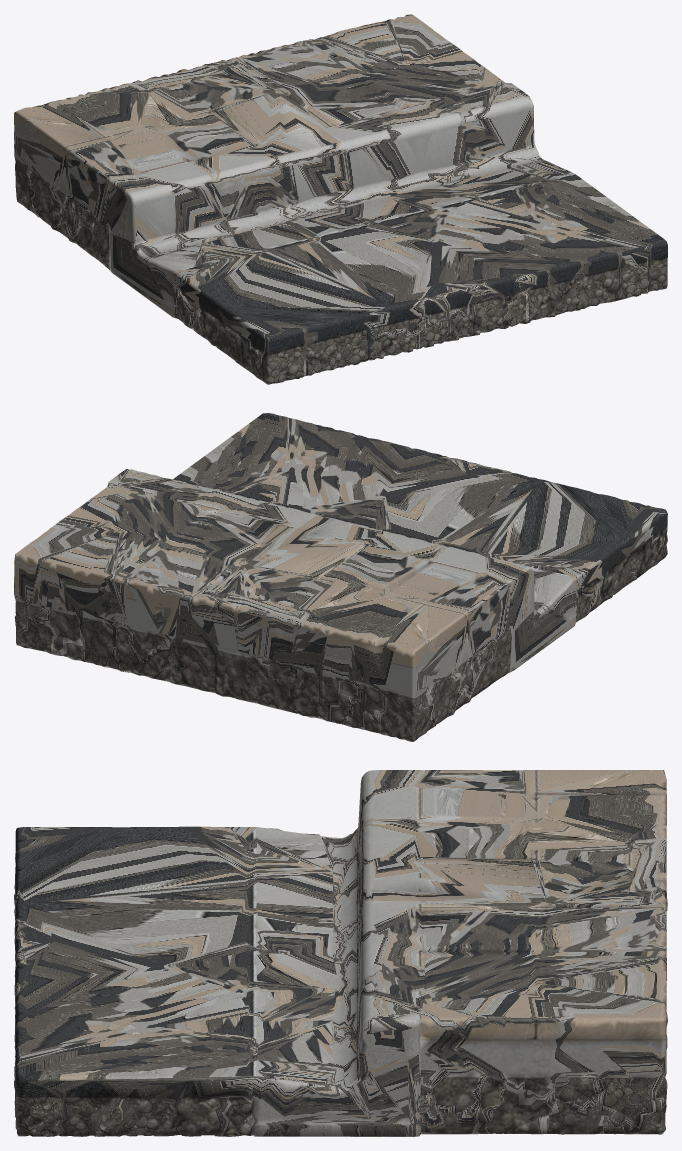
Rendered from kerb_lod1.glb.
The picture shows the model from 3 angles, top to bottom: view 1: azimuth 30°, elevation 25°; view 2: azimuth 150°, elevation 25°; view 3: azimuth 270°, elevation 25°; orthographic projection. The views are drawn at different scales.
Size of the model in its own units: 1.74 by 0.3777 by 1.9.
1 material, 1 textured.
